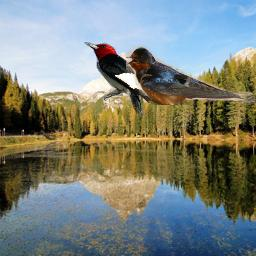Swallow: (126, 46, 256, 105)
Woodpecker: (83, 42, 153, 119)
